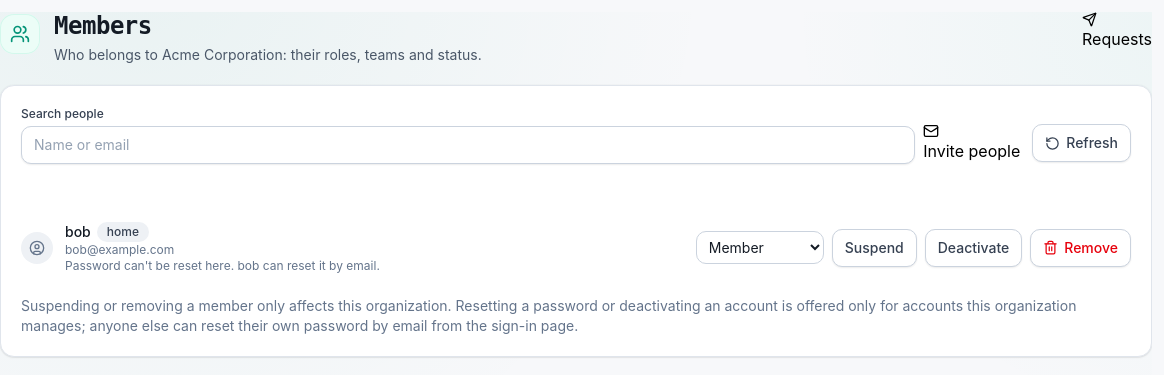
Scenario: OrgUsersPage › deactivates a managed account through the org account-status route
The image size is (1164, 375).
Click the button "Deactivate": (973, 248) top-left (925, 229), bottom-right (1022, 267)
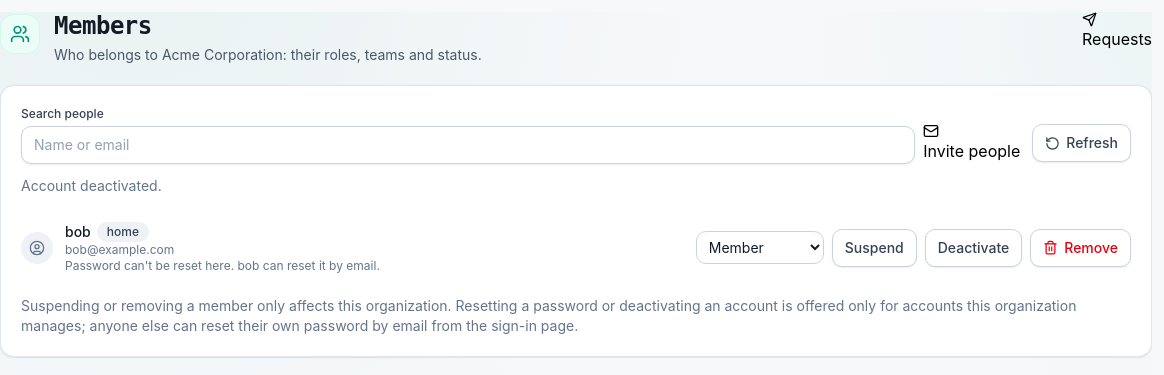
Result: the text "Account deactivated." is shown at top-left (21, 177), bottom-right (162, 194)
